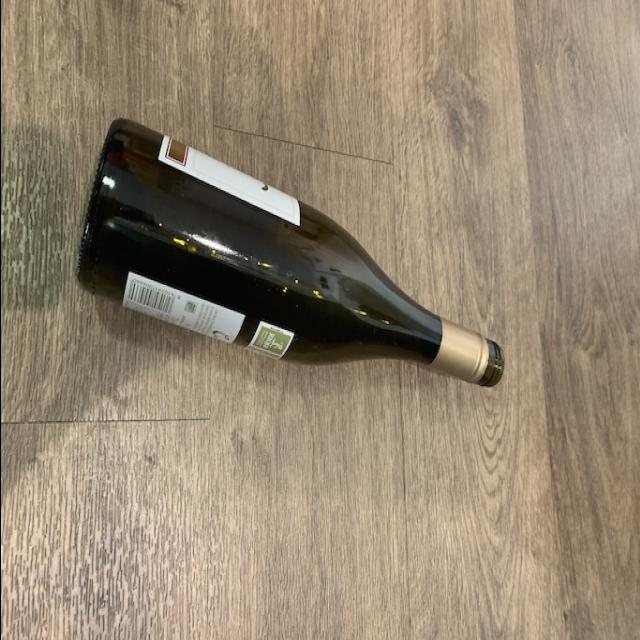Glass Bottle: (74, 112, 500, 388)
